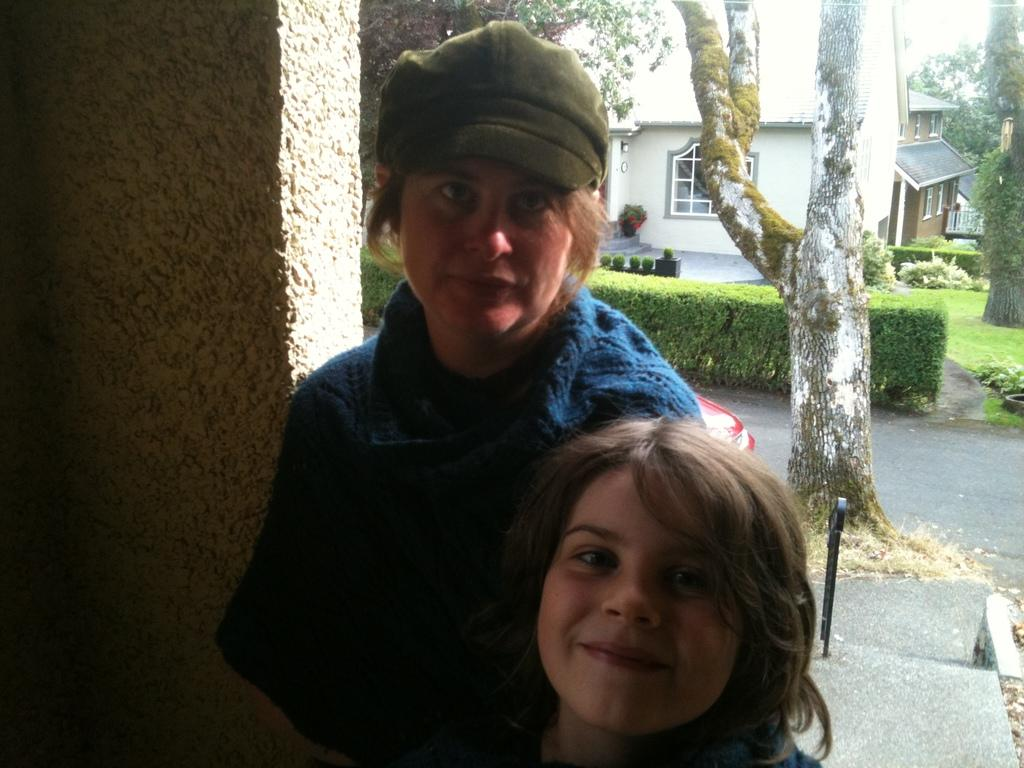Hat: (380, 16, 606, 188)
